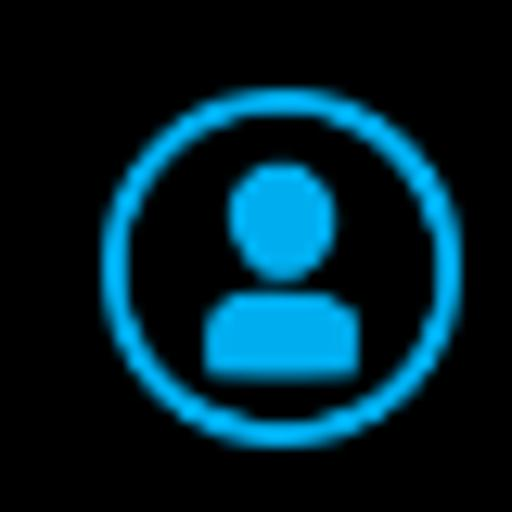Webmail Provider: (0, 38, 512, 473)
